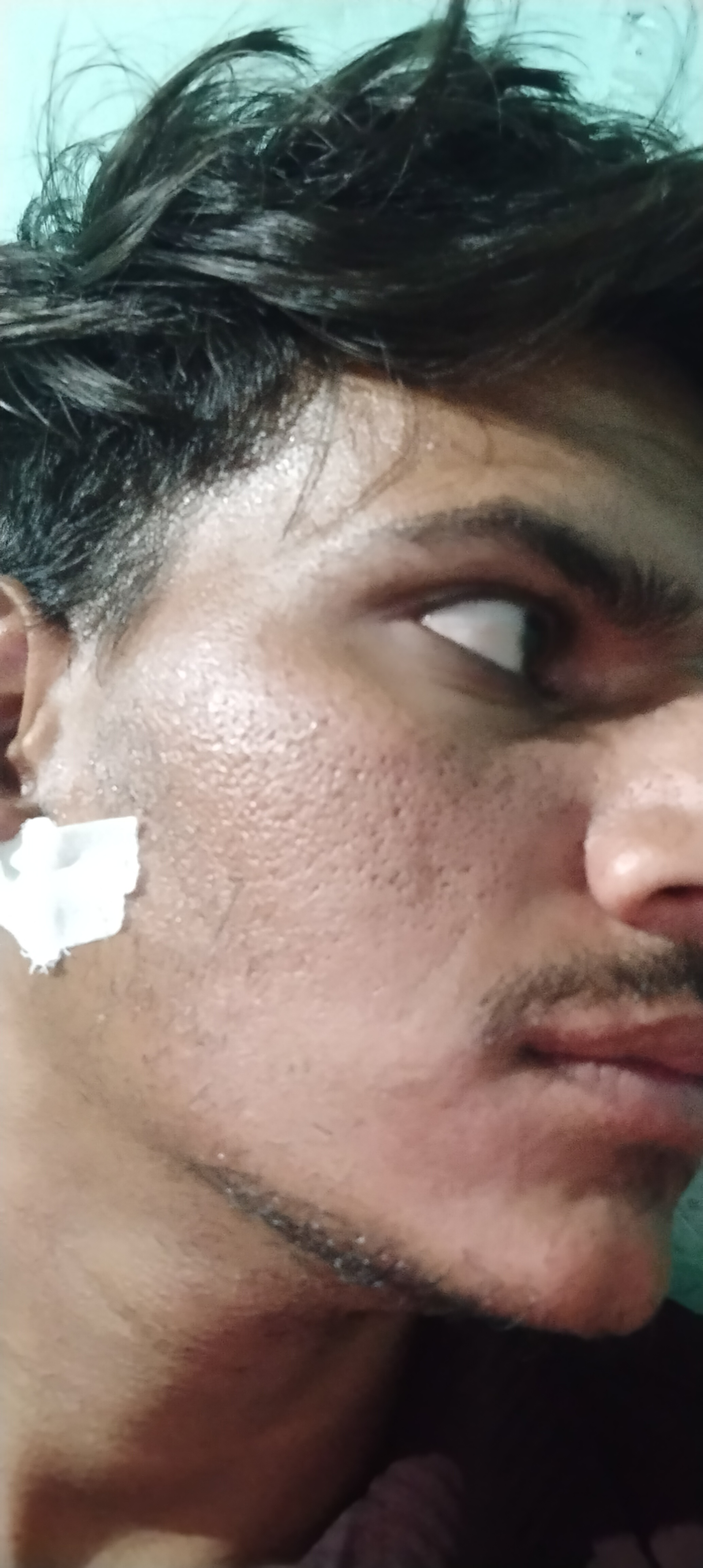closed_comedone: (420, 433, 445, 461)
